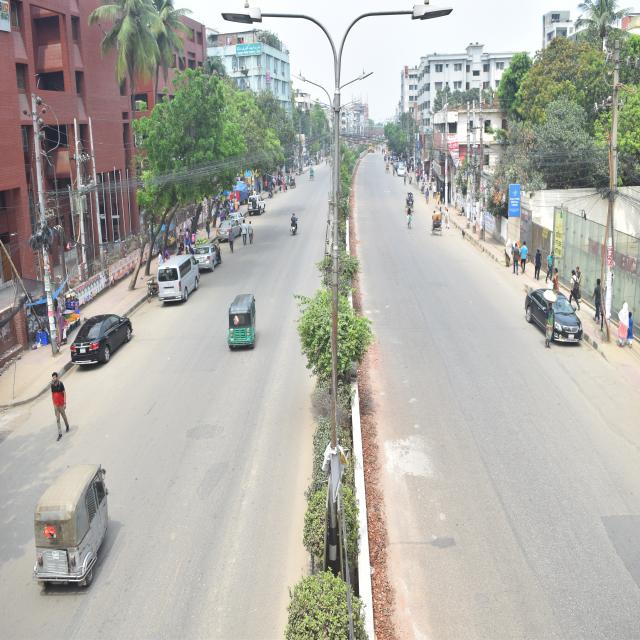car: (508, 270, 618, 366), (58, 313, 142, 369), (195, 232, 230, 278), (212, 212, 248, 252), (244, 188, 270, 218), (395, 162, 409, 187)
microbus: (154, 250, 203, 312)
motorbike: (280, 210, 308, 240)
